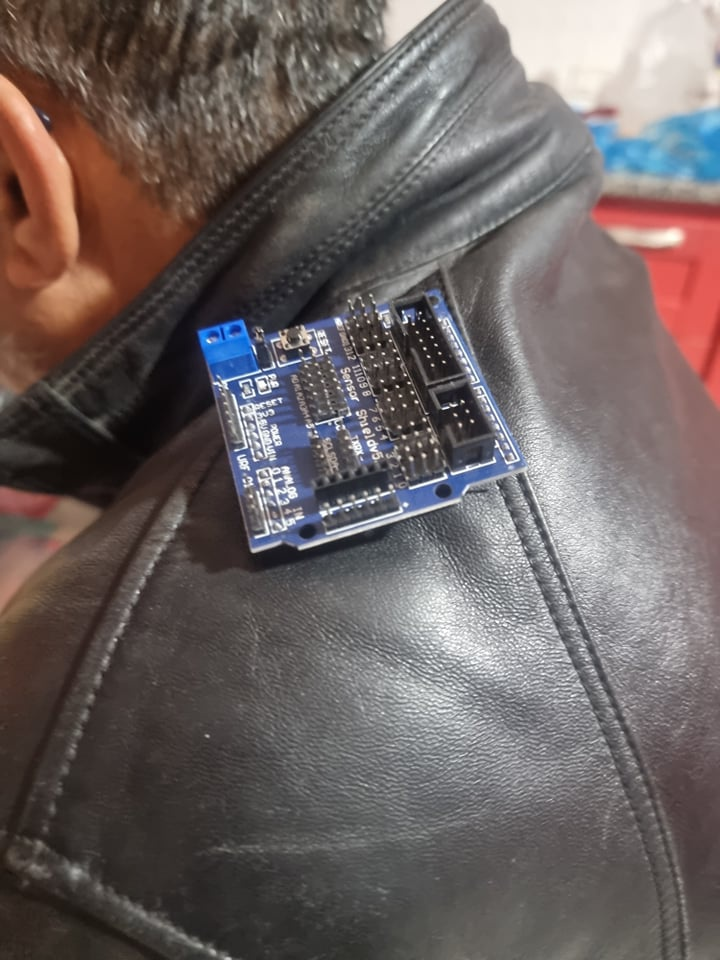5V EXPANSION: (196, 287, 525, 560)
